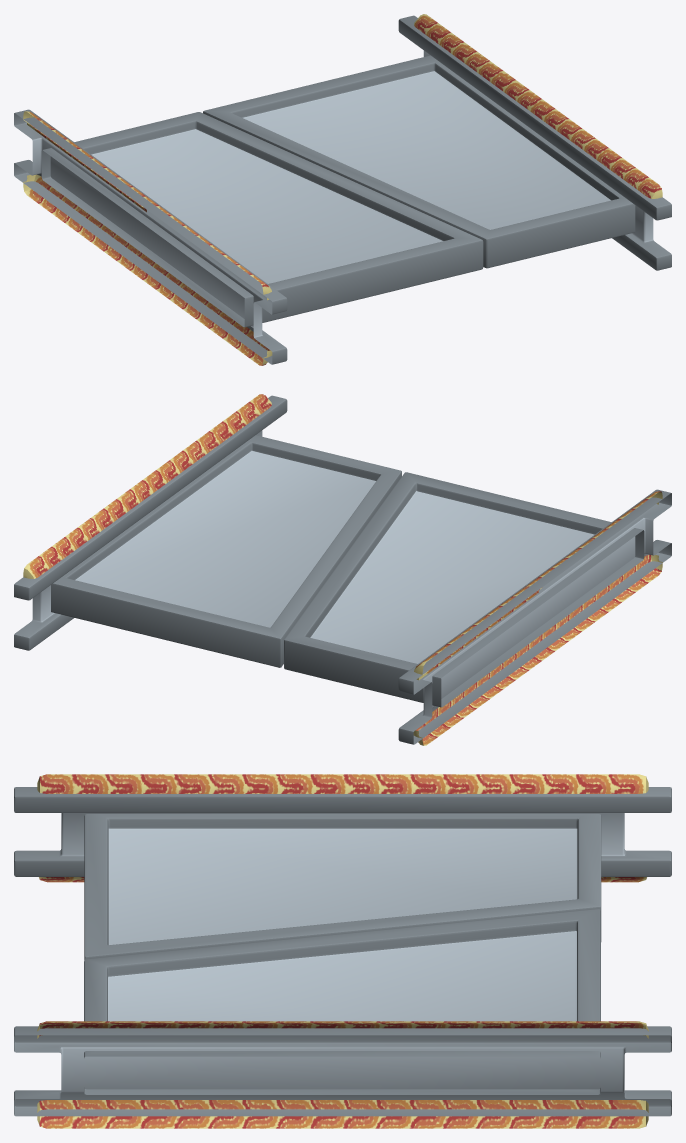
File: SM_Door_50x250.fbx
3 views of the same model, one above another, from view 1: azimuth 30°, elevation 25°; view 2: azimuth 150°, elevation 25°; view 3: azimuth 270°, elevation 25° (orthographic). The views are drawn at different scales.
Visible parts, largest first — view 1: SM_Door_50x250; view 2: SM_Door_50x250; view 3: SM_Door_50x250.
Part boxes in pixels (x1,y1,x2,y2): SM_Door_50x250: (14,14,671,365); SM_Door_50x250: (14,394,671,745); SM_Door_50x250: (14,774,671,1128).
Size of the model in its own units: 250 by 280 by 49.9.
1 material, 1 textured.
